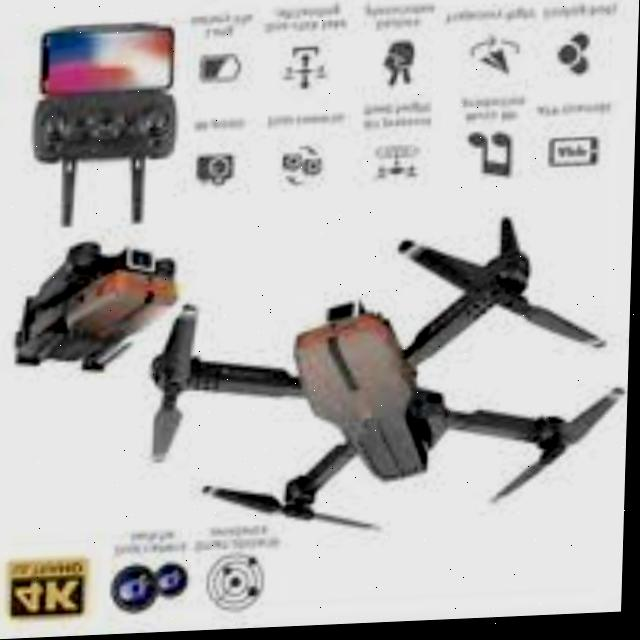drone: (152, 211, 624, 538)
